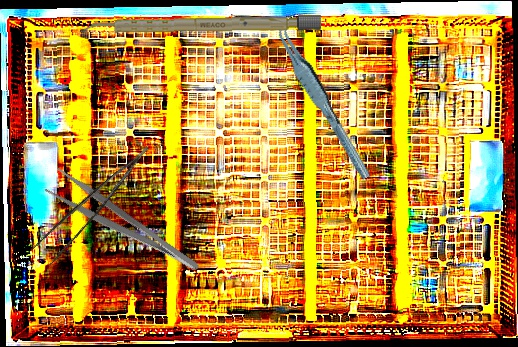Dressing Forceps: (42, 165, 203, 287)
Scalpel Handle: (84, 14, 322, 35)
Tissue Forceps: (272, 11, 372, 189), (25, 146, 166, 270)
